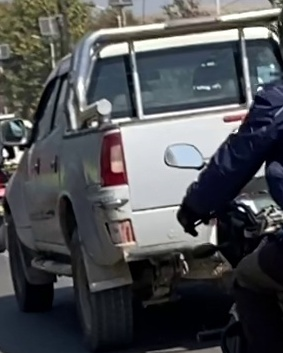license_plate: (134, 346, 226, 353)
